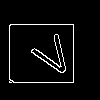V: (25, 25, 78, 81)
